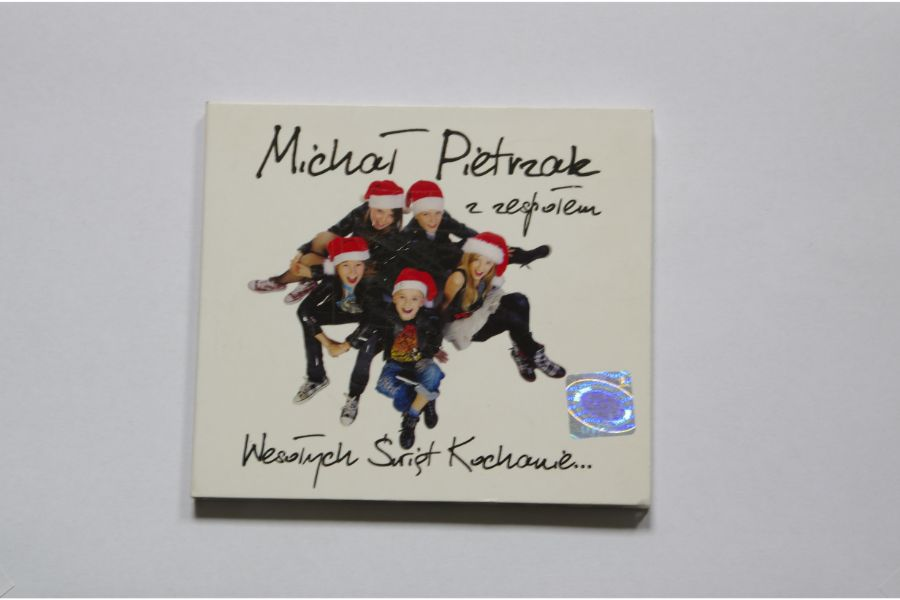album: (190, 101, 653, 509)
